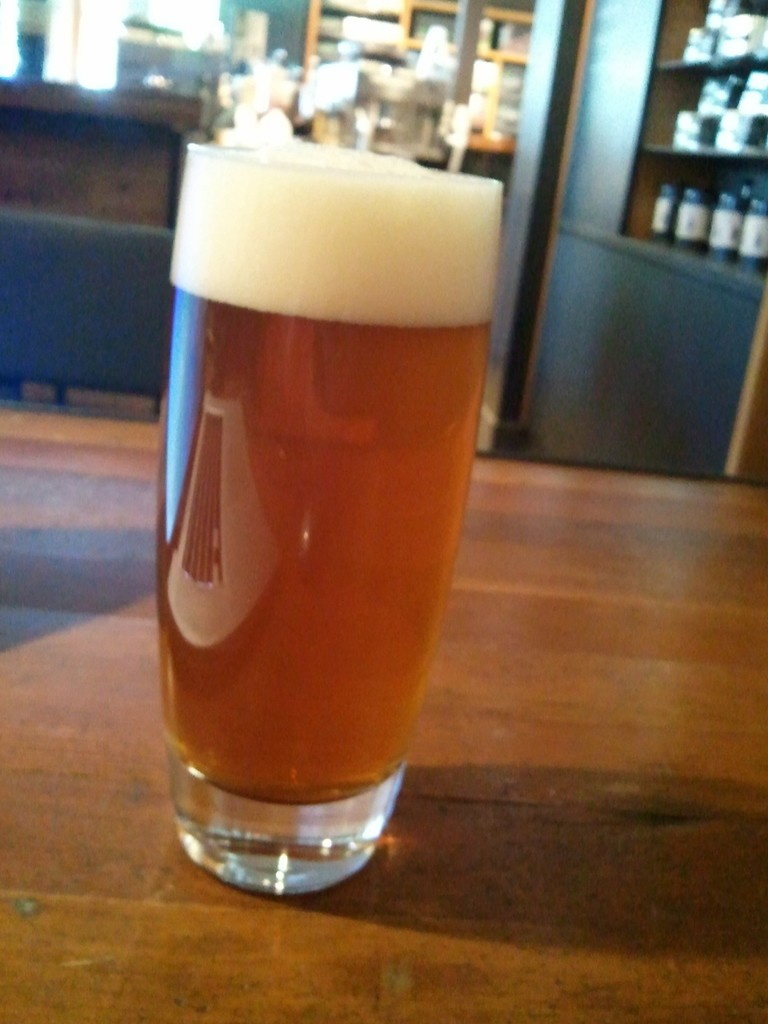Beer: (152, 134, 502, 894)
